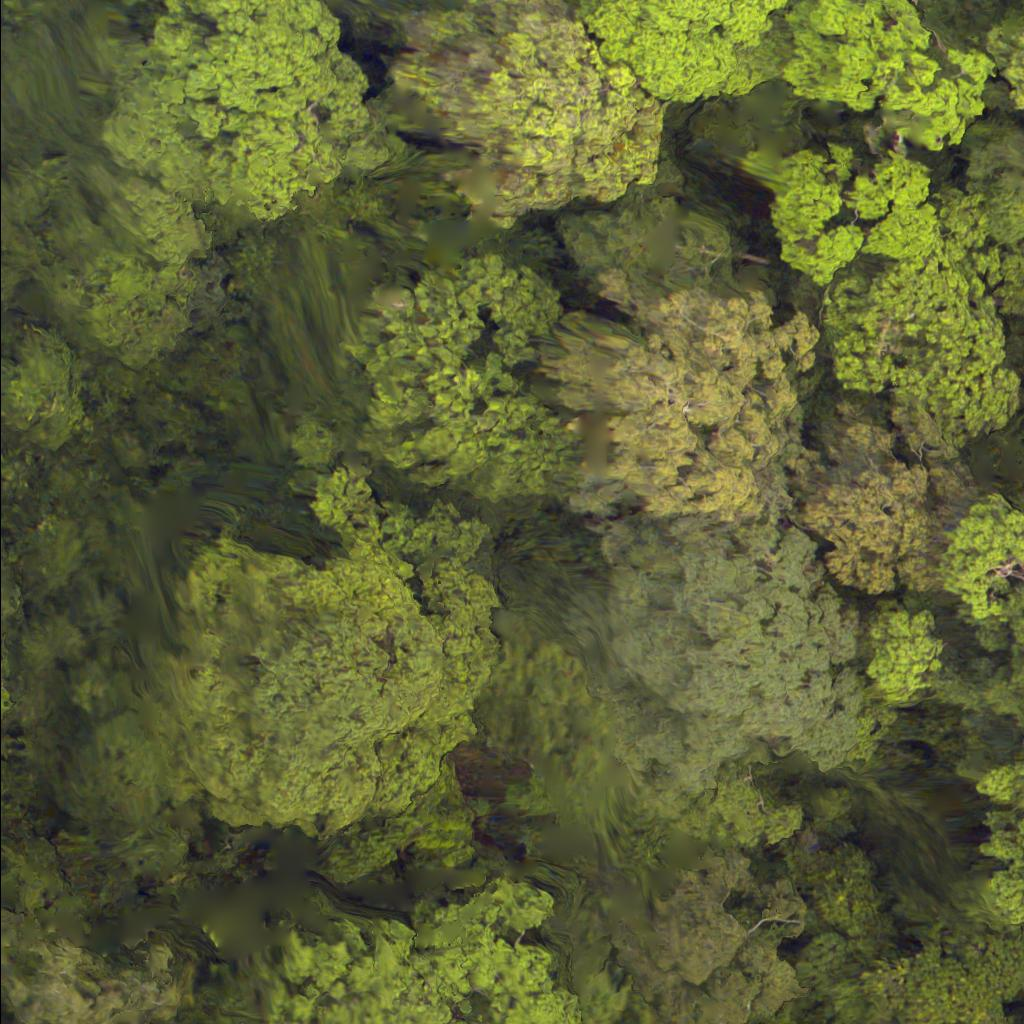crown: (138, 508, 502, 878), (564, 535, 866, 817), (591, 267, 839, 549), (302, 252, 571, 501), (219, 868, 598, 1023), (516, 0, 859, 150), (595, 850, 835, 1023), (806, 407, 938, 596), (868, 603, 945, 703), (979, 3, 1023, 121)
